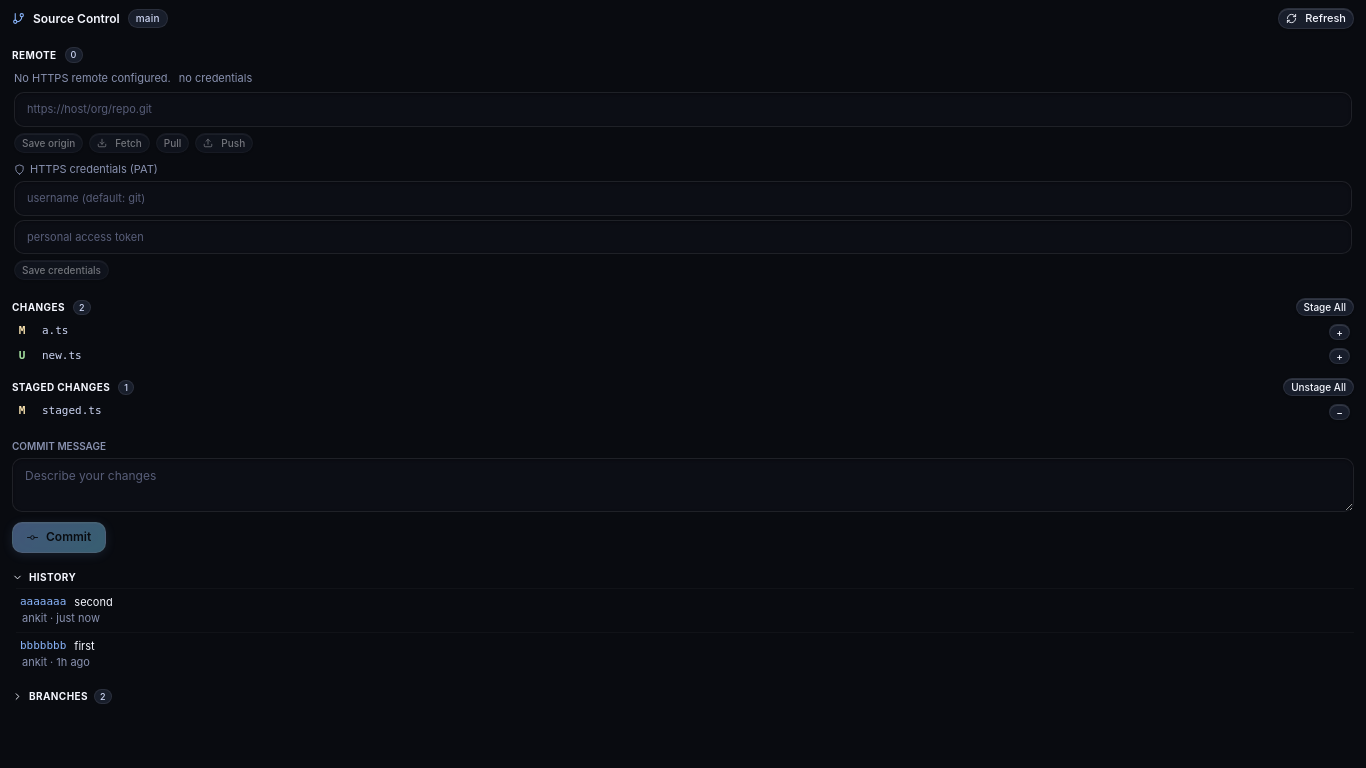
Scenario: SourceControlPanel — M51 › 49/51. commit disabled until a message AND staged changes exist
The width and height of the screenshot is (1366, 768).
Check: the button "Commit" is disabled, box [12,522,106,553]
In the text box labelled "COMMIT MESSAGE": [683, 485] box [12,458,1354,512], type "my change"
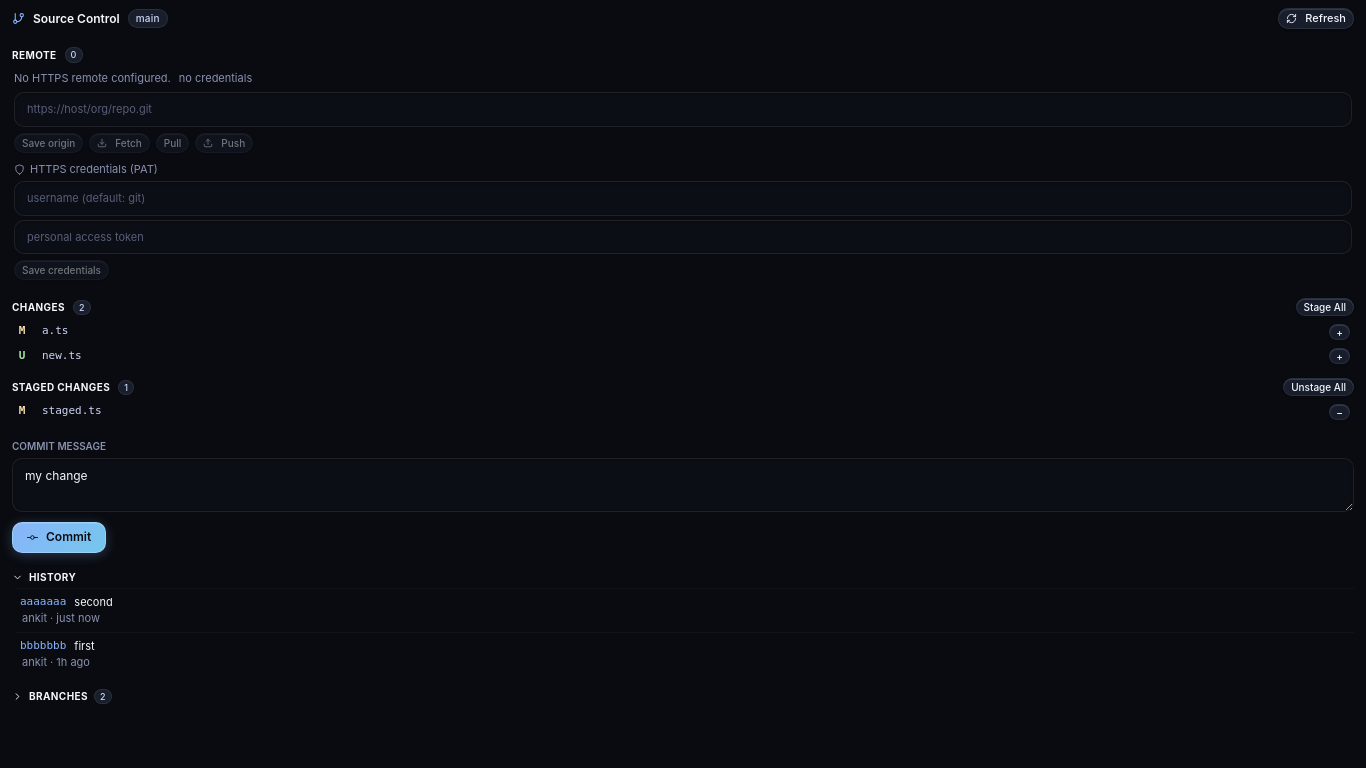
Check: the button "Commit" is enabled, box [12,522,106,553]
